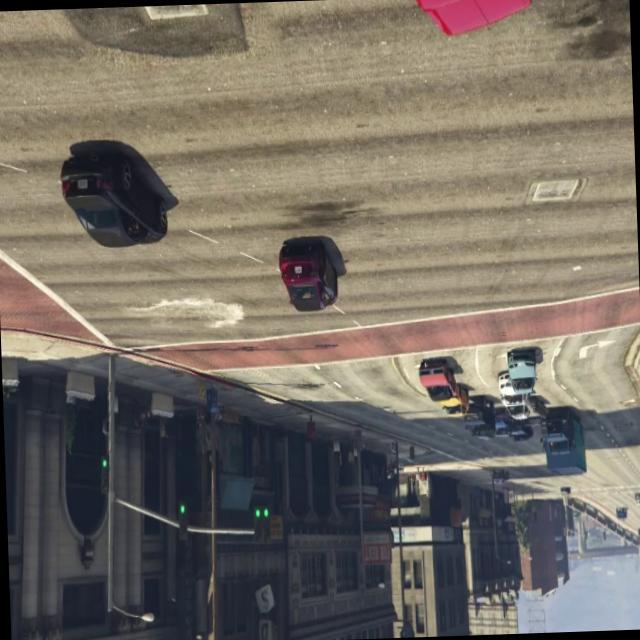Green-Signal: (245, 484, 278, 553), (92, 436, 114, 504), (172, 488, 192, 550)
